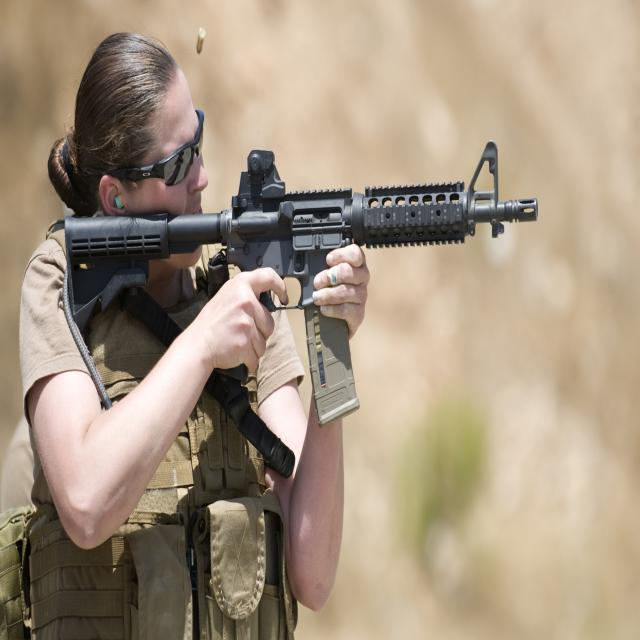Rifle: (64, 142, 539, 428)
